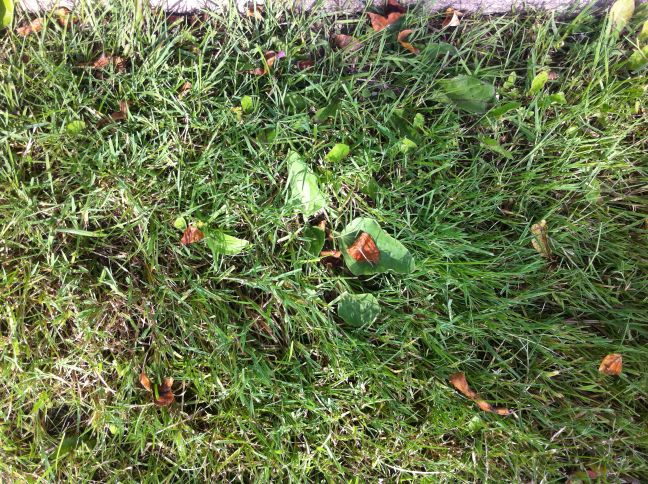weed1: (175, 151, 420, 334)
